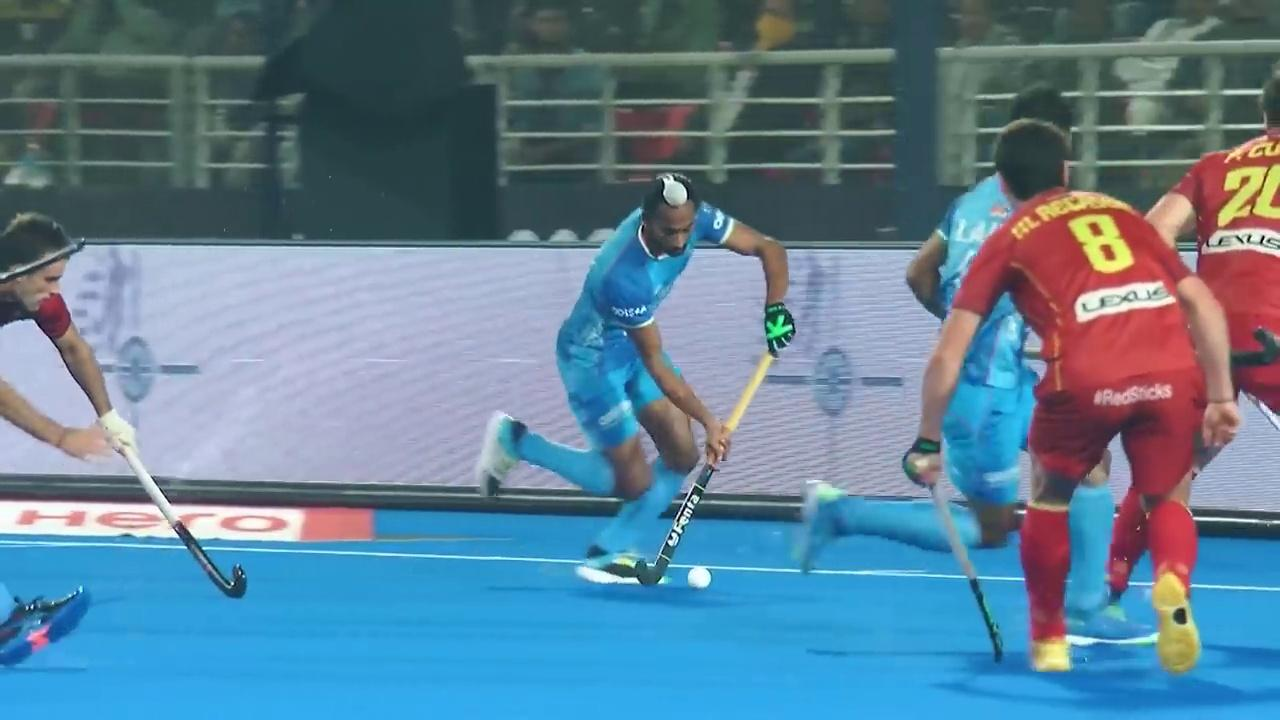ball: (677, 561, 730, 603)
